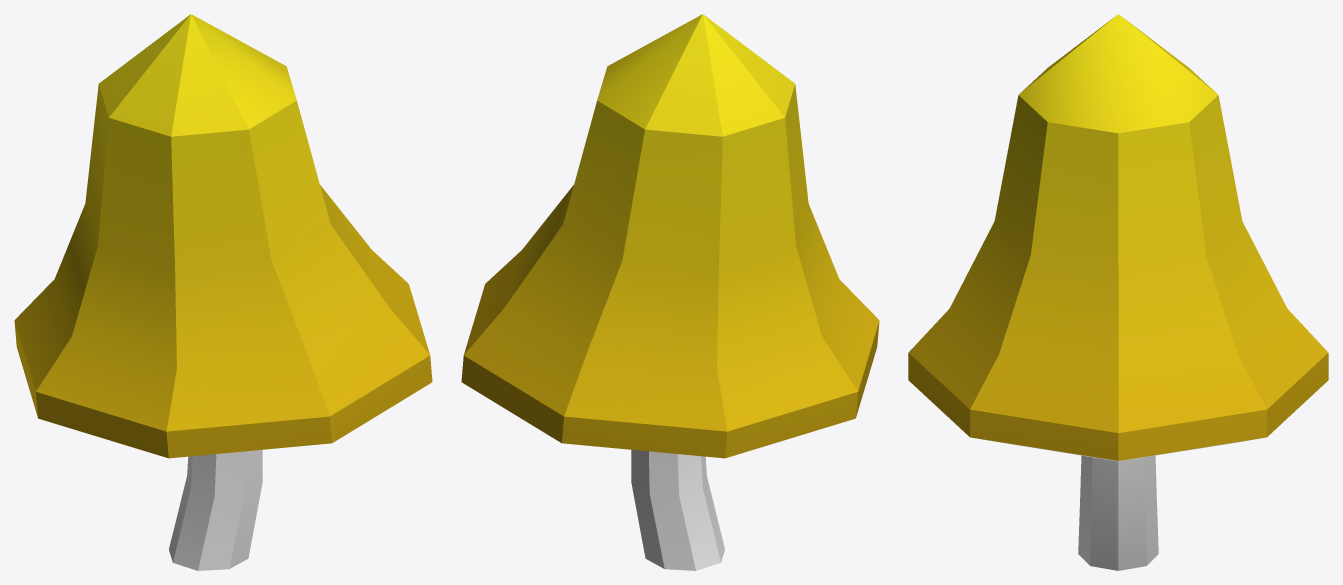
File: Mushroom.fbx
The picture shows the model from 3 angles, left to right: view 1: azimuth 30°, elevation 25°; view 2: azimuth 150°, elevation 25°; view 3: azimuth 270°, elevation 25°; orthographic projection. The views are drawn at different scales.
Parts seen in each view (by area): view 1: Mushroom; view 2: Mushroom; view 3: Mushroom.
Boxes of the visible parts, x1,y1,x2,y2 form: Mushroom: (14,14,432,570); Mushroom: (461,14,879,570); Mushroom: (908,14,1328,570).
Size of the model in its own units: 13.18 by 18.27 by 13.08.
